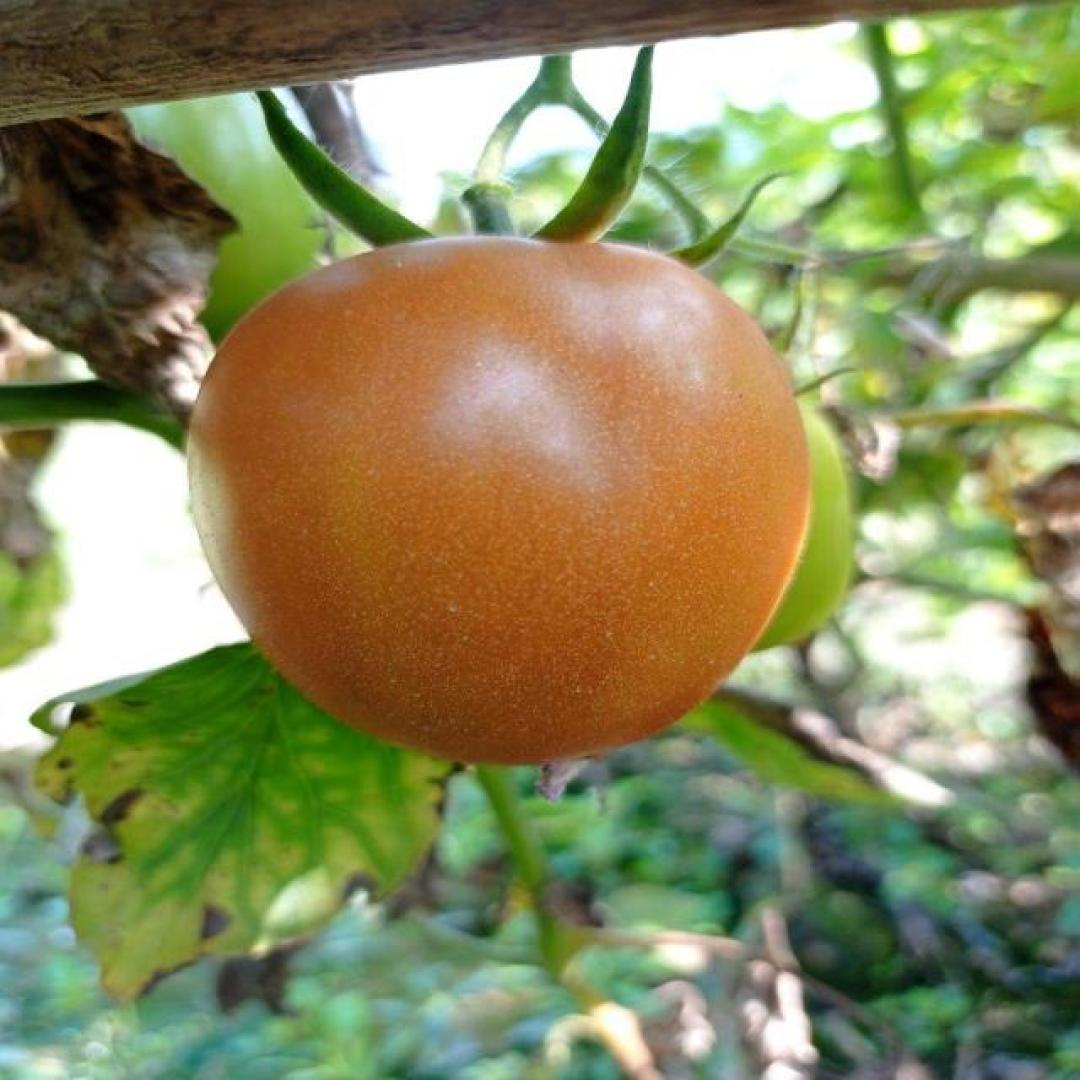setengah_matang: (177, 231, 820, 770)
